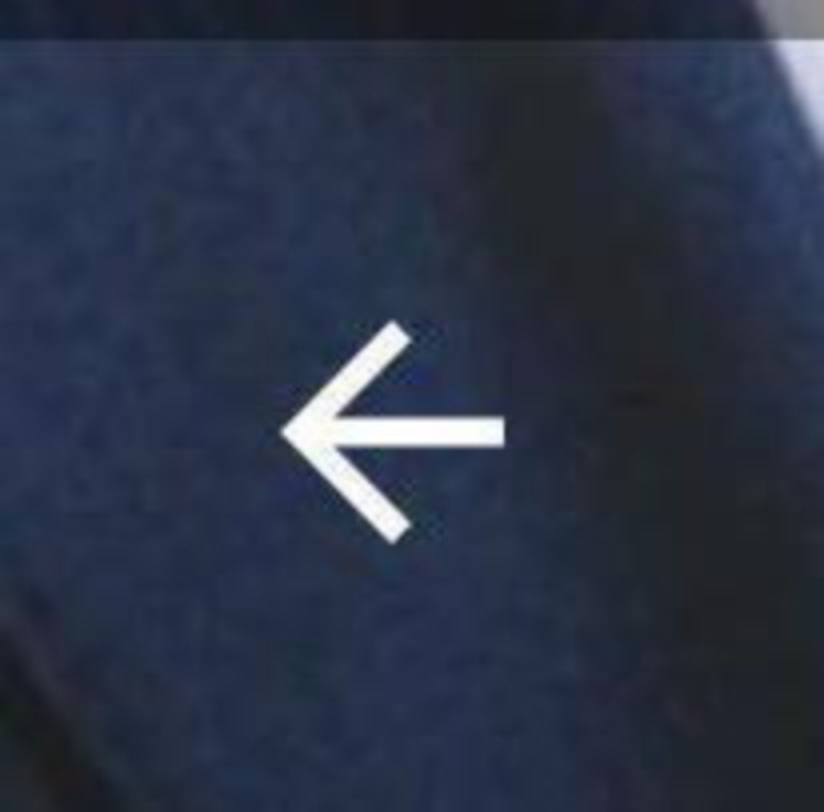ImgButton: (1, 1, 823, 811)
